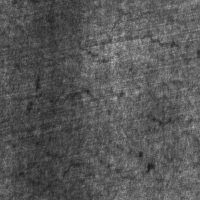crazing: (35, 31, 181, 105), (28, 145, 157, 189)
